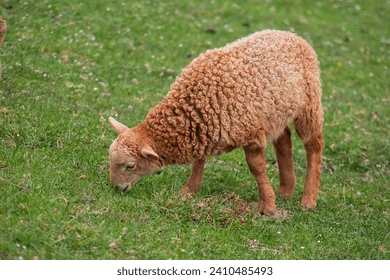sheep: (99, 30, 328, 220)
